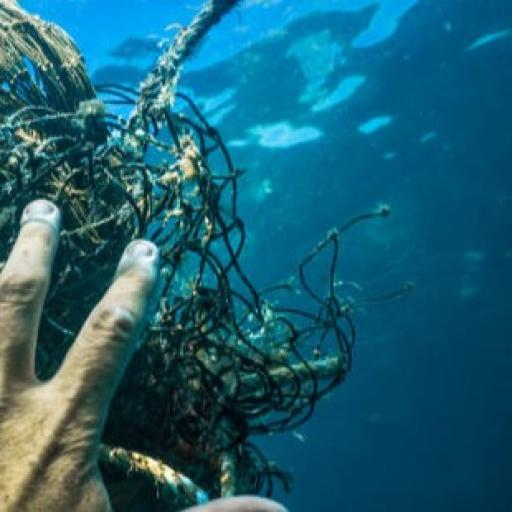net: (0, 0, 357, 512)
